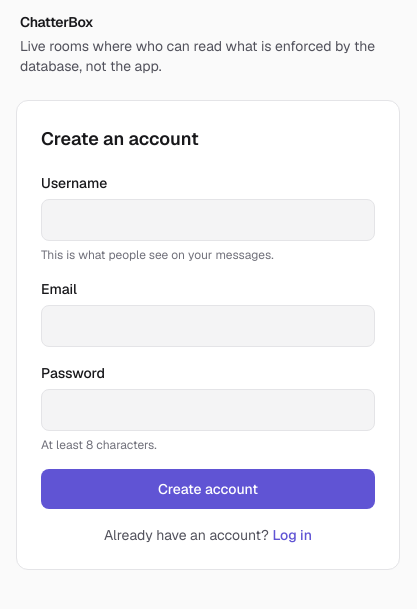
RegisterPage › clears a field's error as soon as it's edited
The width and height of the screenshot is (417, 609).
Click the button "Create account" at [208, 489], box [41,469,375,509]
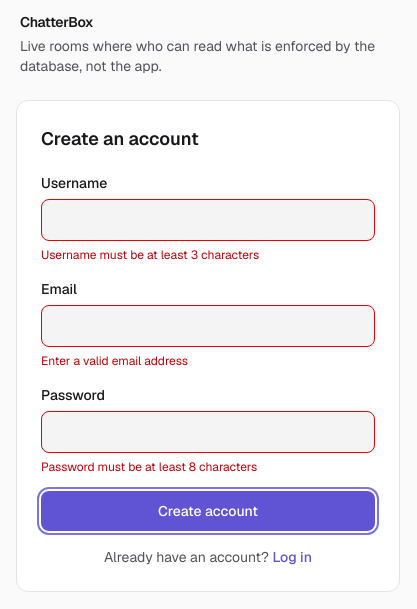
Now the text "Username must be at least 3 characters" is shown, box [41,247,259,263]
Type "alice" into the field labelled "Username" at [208, 220], box [41,199,375,241]
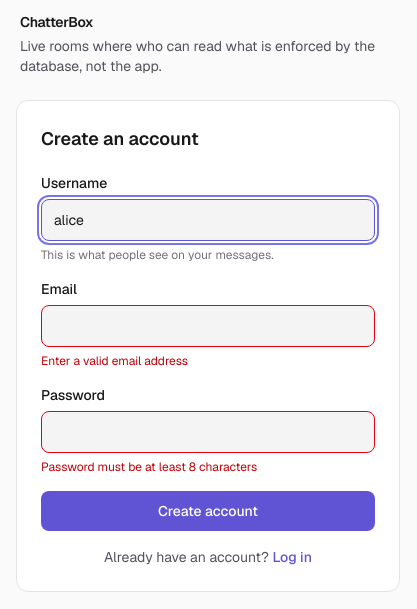
Now the text "Username must be at least 3 characters" is gone
